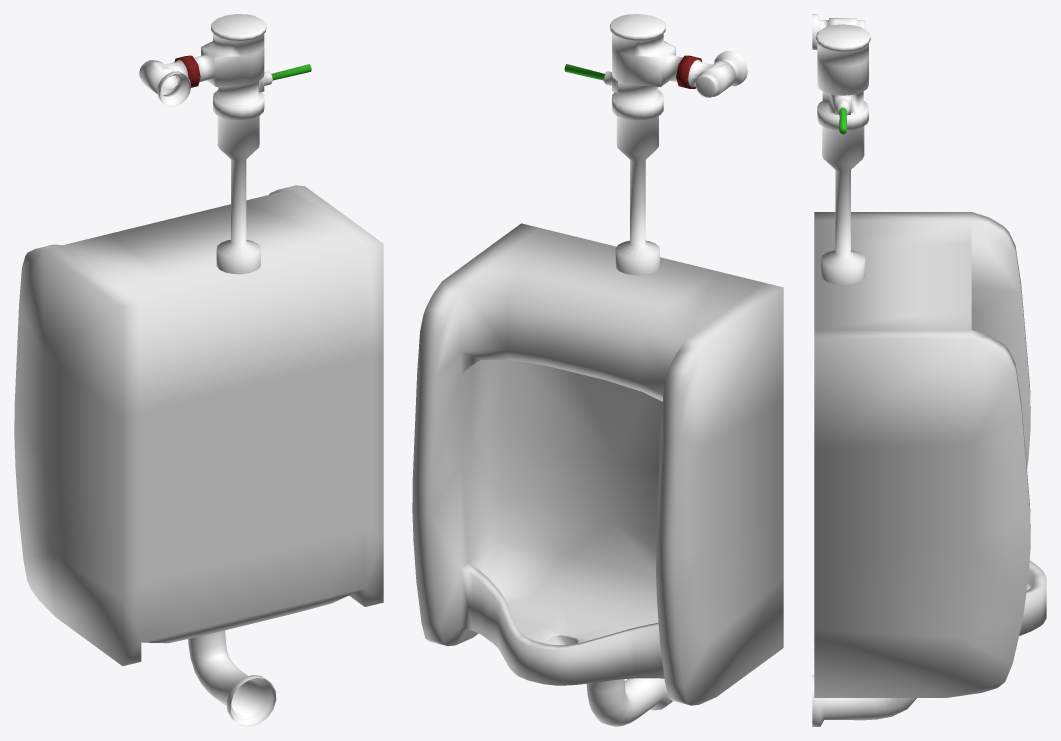
The picture shows the model from 3 angles, left to right: view 1: azimuth 30°, elevation 25°; view 2: azimuth 150°, elevation 25°; view 3: azimuth 270°, elevation 25°; orthographic projection.
Parts seen in each view (by area): view 1: UrinalExportOLD; view 2: UrinalExportOLD; view 3: UrinalExportOLD.
Boxes of the visible parts, x1,y1,x2,y2 form: UrinalExportOLD: (14,14,383,726); UrinalExportOLD: (412,14,783,726); UrinalExportOLD: (812,14,1046,726).
Size of the model in its own units: 227 by 573 by 176.
Materials: 1 (1 with a texture image).
